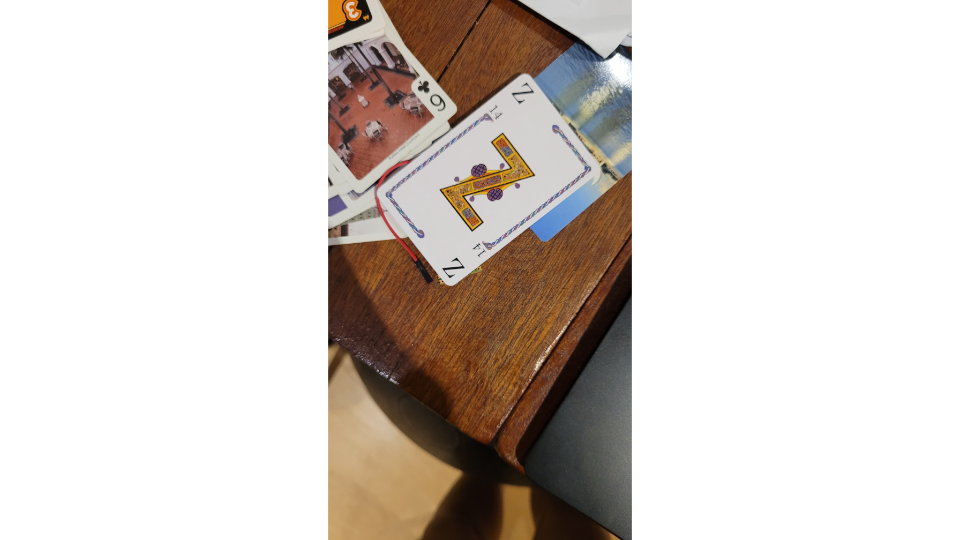Z: (373, 70, 602, 288)
